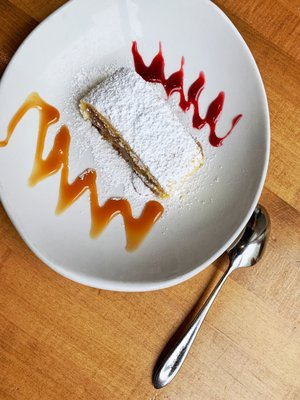salad: (151, 204, 271, 389)
sushi: (0, 0, 272, 293)
